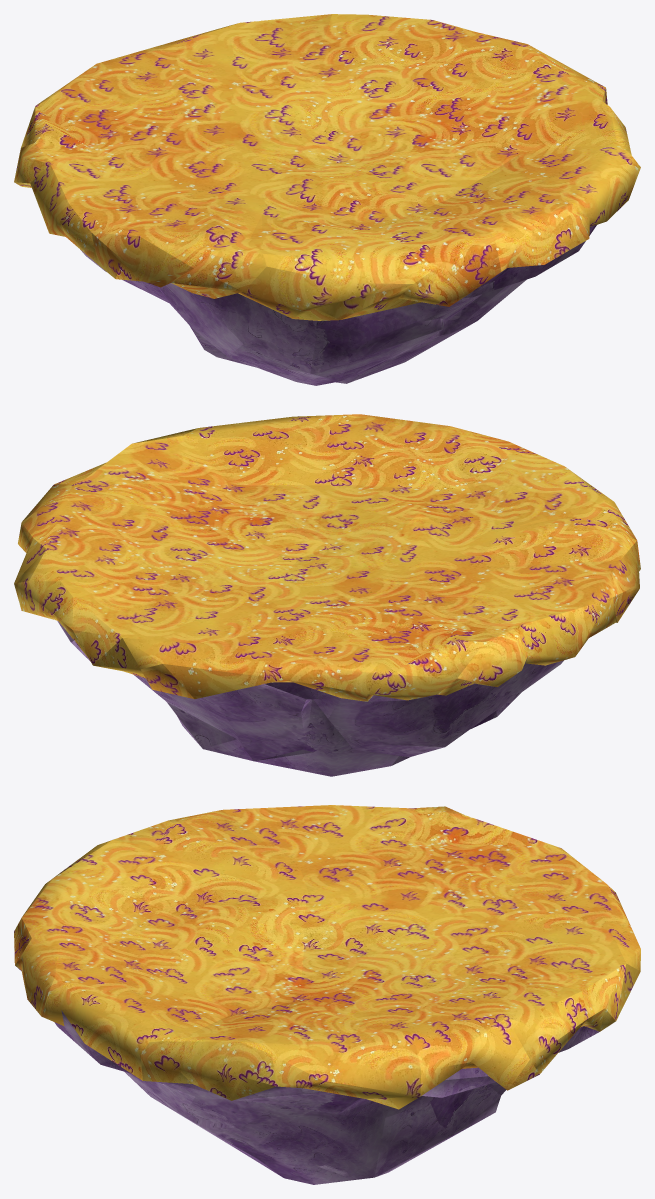
The model's file is floating-island-01-art.glb.
3 views of the same model, one above another, from view 1: azimuth 30°, elevation 25°; view 2: azimuth 150°, elevation 25°; view 3: azimuth 270°, elevation 25° (orthographic).
Parts seen in each view (by area): view 1: Floating_Island_01_Art; view 2: Floating_Island_01_Art; view 3: Floating_Island_01_Art.
Part boxes in pixels (x1=…): Floating_Island_01_Art: x1=14, y1=14, x2=640, y2=385; Floating_Island_01_Art: x1=14, y1=414, x2=640, y2=776; Floating_Island_01_Art: x1=14, y1=805, x2=640, y2=1184.
Size of what is drawn, in the model's own units: 14.79 by 5.6 by 14.49.
2 materials, 2 textured.
